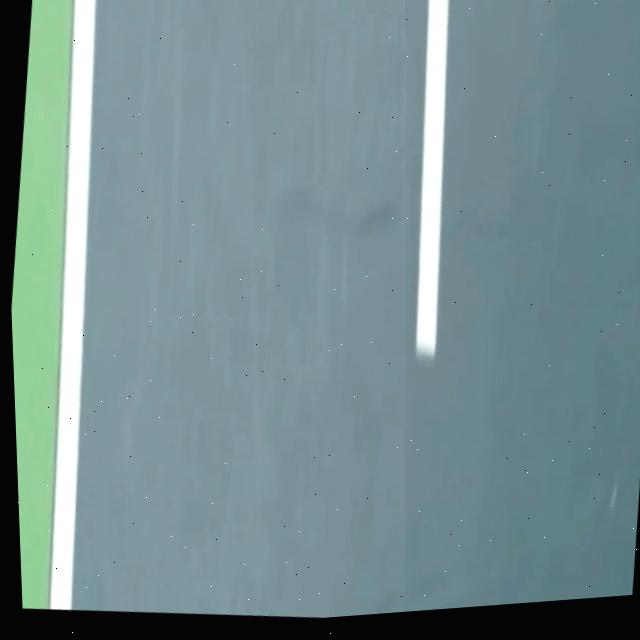center: (416, 0, 449, 357)
right: (50, 0, 96, 610)
